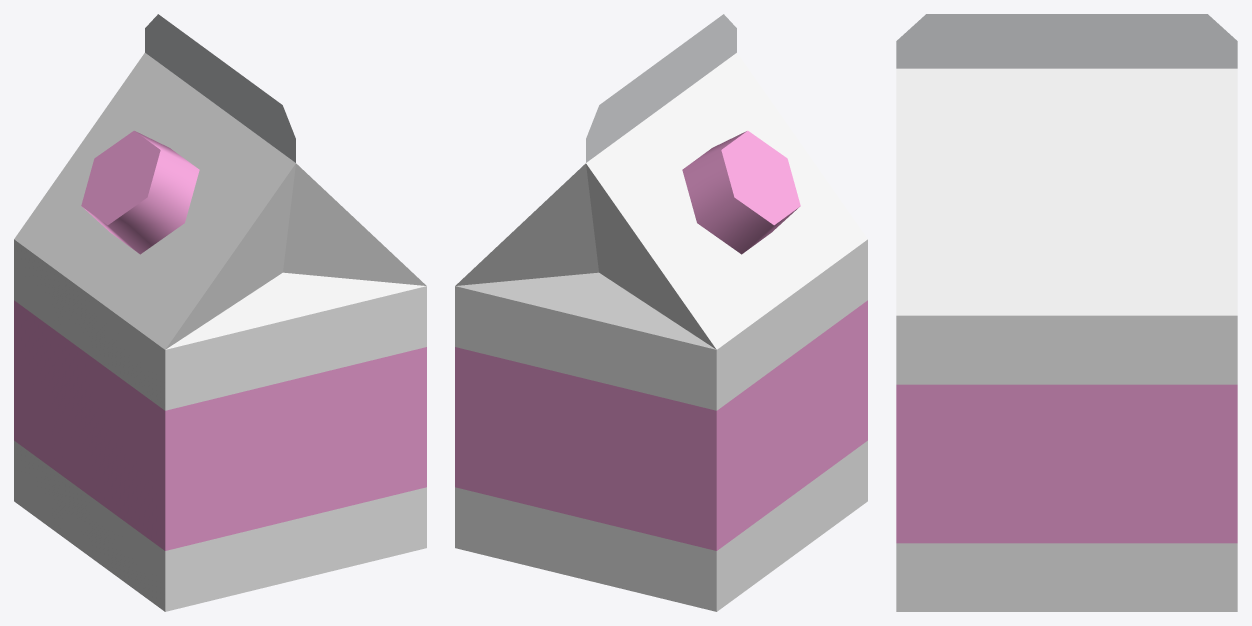
The model's file is cartonSmall.GLB.
3 renders of one model, left to right at view 1: azimuth 30°, elevation 25°; view 2: azimuth 150°, elevation 25°; view 3: azimuth 270°, elevation 25°, orthographic. The views are drawn at different scales.
Visible parts, largest first — view 1: cartonSmall; view 2: cartonSmall; view 3: cartonSmall.
Part boxes in pixels (box(x1,y1,x2,y2)): cartonSmall: box(14, 14, 426, 611); cartonSmall: box(455, 14, 867, 611); cartonSmall: box(896, 14, 1237, 611).
Size of the model in its own units: 0.23 by 0.3905 by 0.23.
